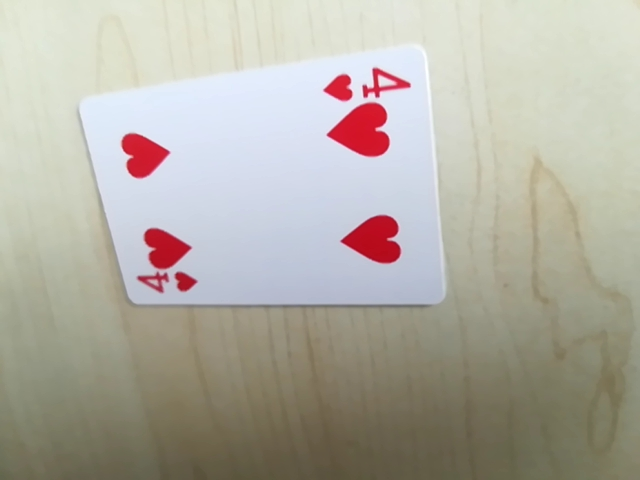hx 4: (320, 57, 413, 104), (131, 266, 201, 299)
